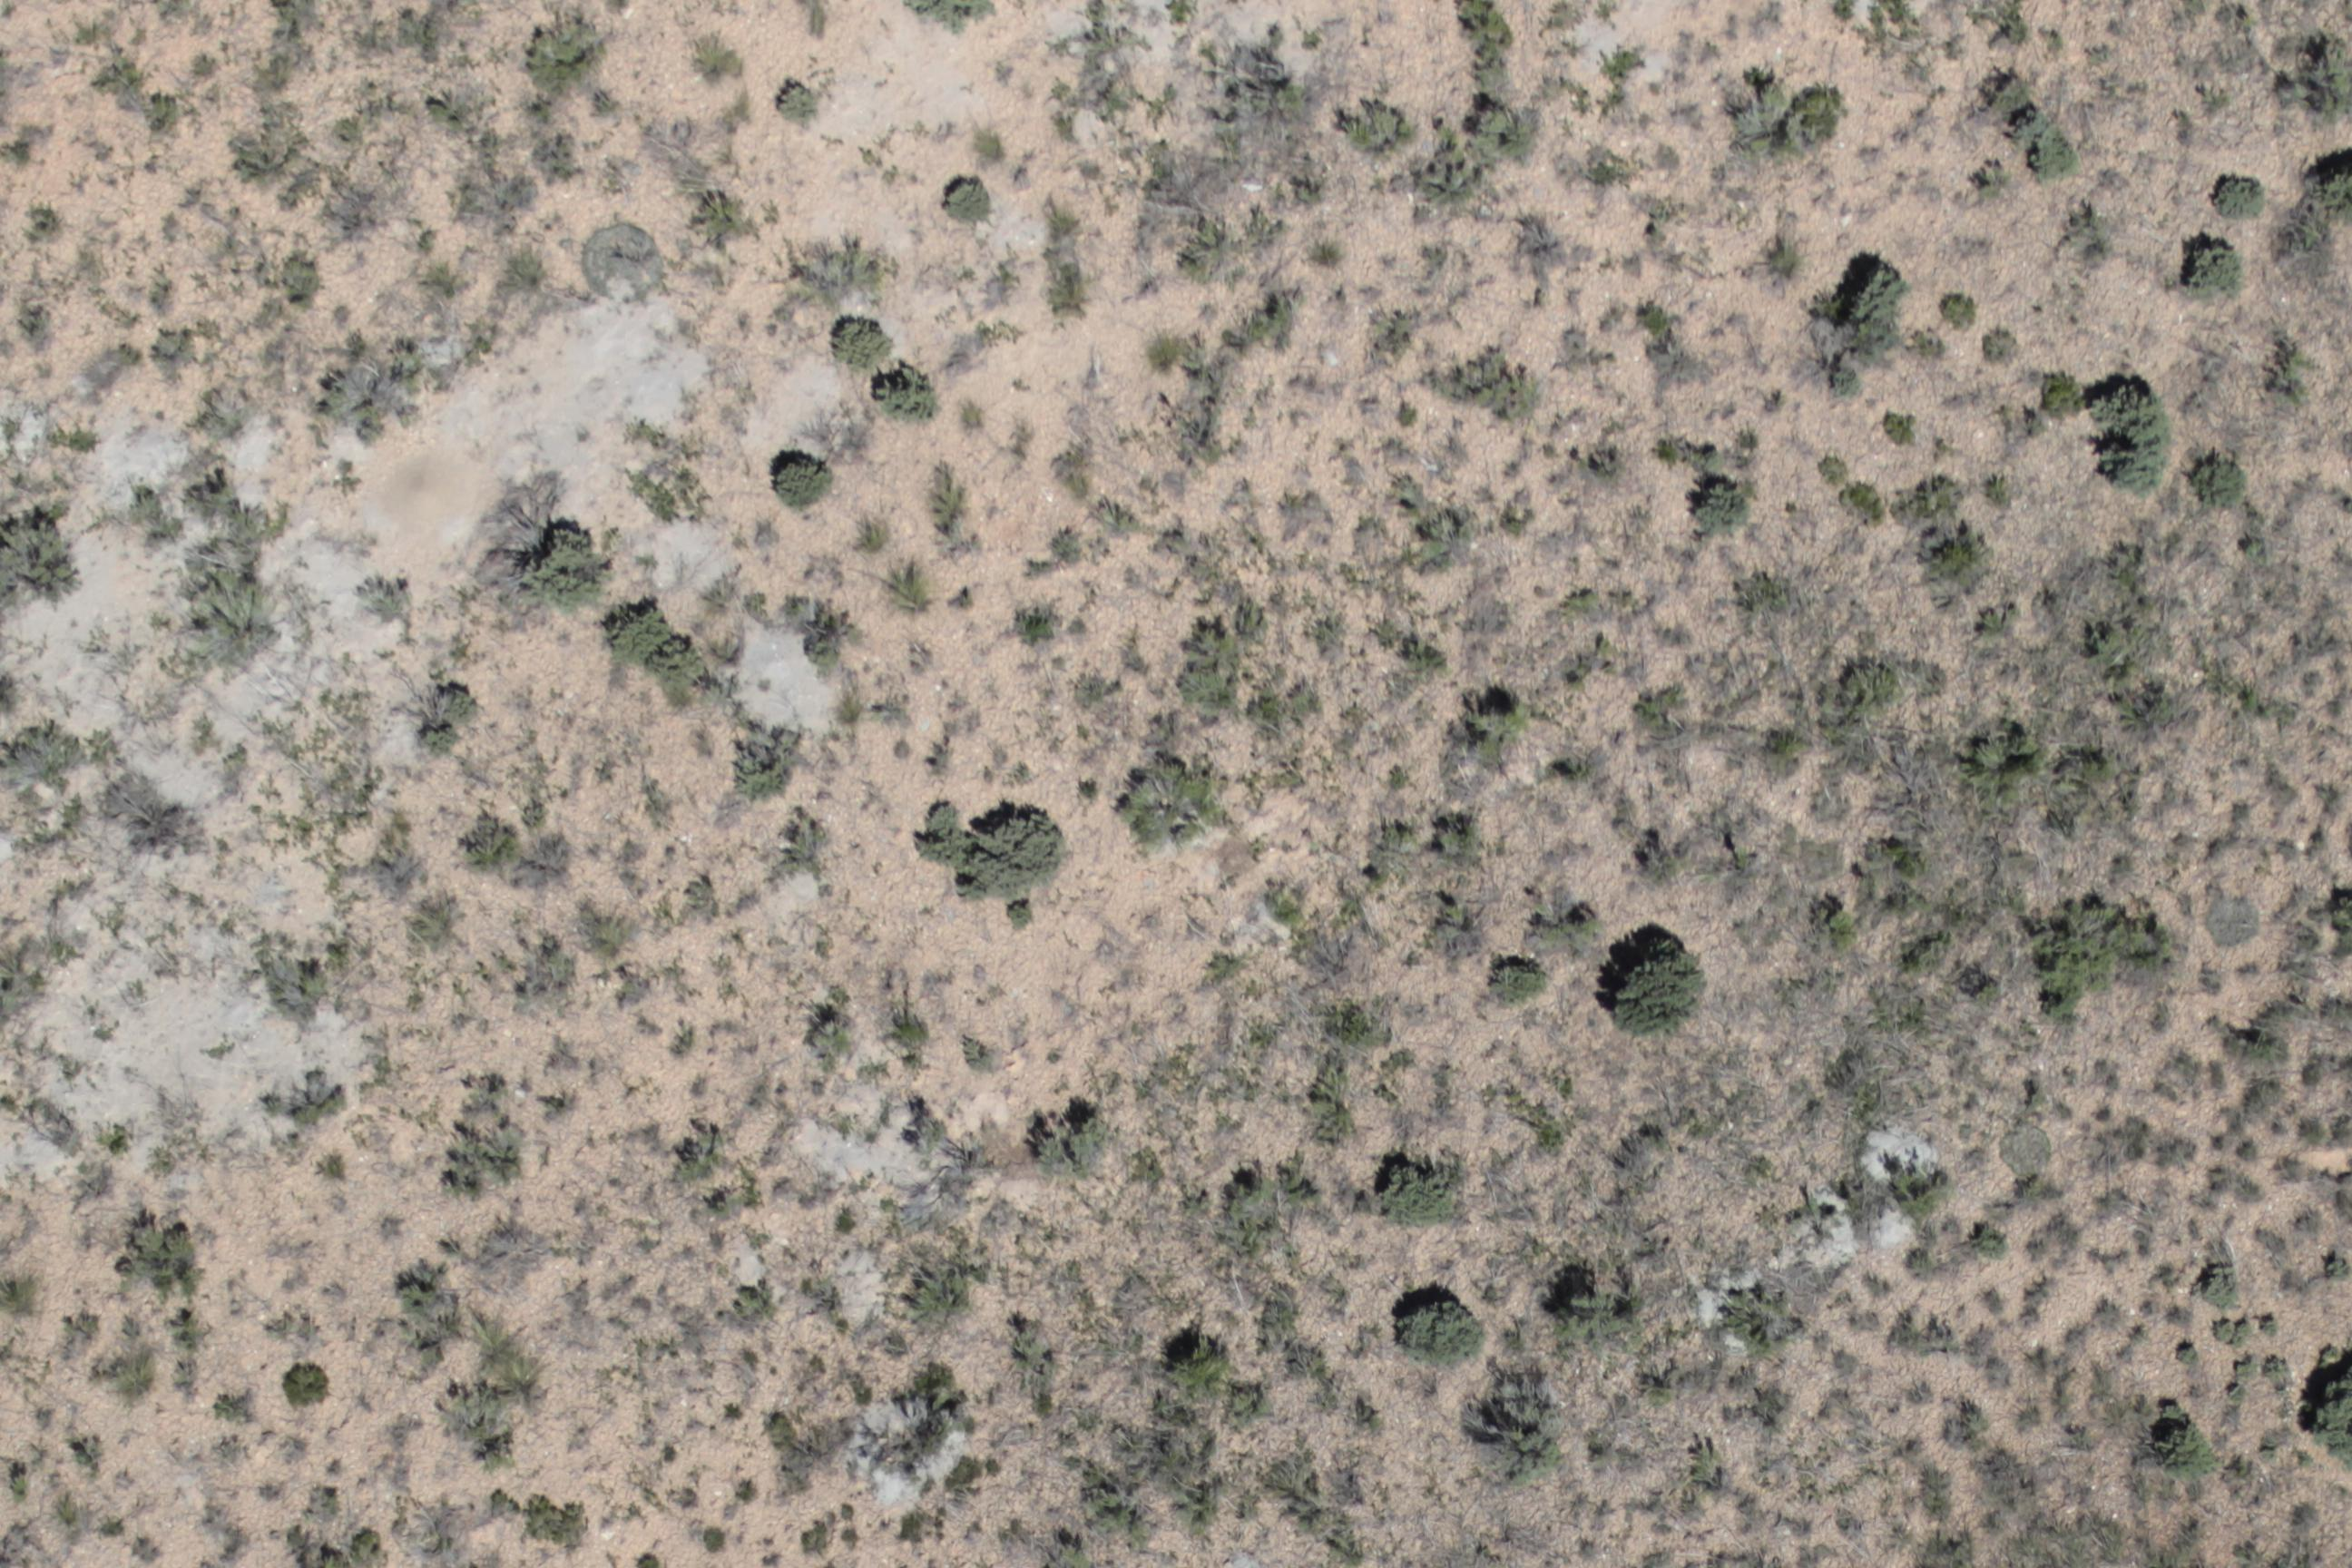burrow: (348, 427, 495, 553)
